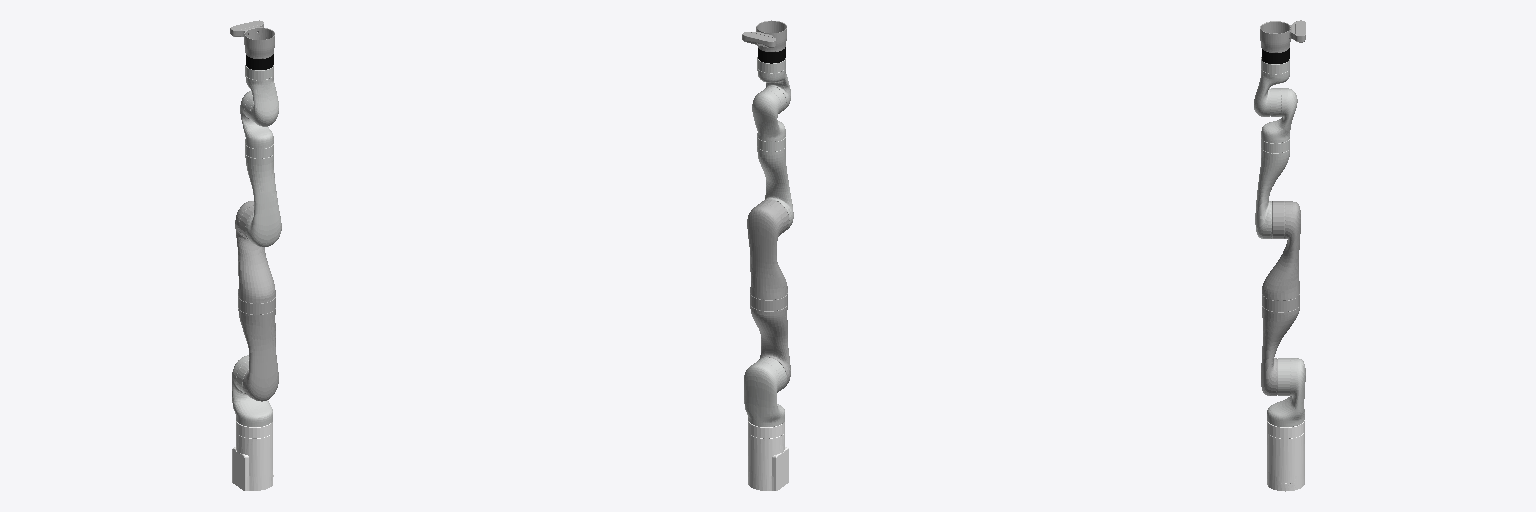
The robot description file, URDF, robot "GEN3-7DOF_BRAKES_VISION_URDF_ARM_V01":
<robot name="GEN3-7DOF_BRAKES_VISION_URDF_ARM_V01">
  <link name="base_link">
    <inertial>
      <origin xyz="-0.00075876 -0.00019207 0.09605351" rpy="0 0 0" />
      <mass value="1.7565703" />
      <inertia ixx="0.00562309" ixy="5.96E-06" ixz="6.235E-05" iyy="0.00551518" iyz="6.09E-06" izz="0.00205231" />
    </inertial>
    <visual name="base_link_visual">
      <origin xyz="0 0 0" rpy="0 0 0" />
      <geometry>
        <mesh filename="package://kortex_description/arms/gen3/7dof/meshes/base_link.obj" />
      </geometry>
      <material name="">
        <color rgba="1 1 1 1" />
      </material>
    </visual>
    <collision name="base_link_collision">
      <geometry>
	    <box size="0.094492 0.094157 0.172850"/> 
      </geometry>
		<origin xyz = "0.00019369274377822876 7.836706936359406e-05 0.08542499692793937" rpy="0 0 0" />
    </collision>
  </link>
  <link name="shoulder_link">
    <inertial>
      <origin xyz="-2.522E-05 -0.00759535 -0.08865077" rpy="0 0 0" />
      <mass value="1.46990145" />
      <inertia ixx="0.00432687" ixy="2.5E-07" ixz="9.4E-07" iyy="0.00447028" iyz="0.0001016" izz="0.00145324" />
    </inertial>
    <visual name="shoulder_link_visual">
      <origin xyz="0 0 0" rpy="0 0 0" />
      <geometry>
        <mesh filename="package://kortex_description/arms/gen3/7dof/meshes/shoulder_link.obj" />
      </geometry>
      <material name="">
        <color rgba="0.84706 0.8549 0.85098 1" />
      </material>
    </visual>
    <collision name="shoulder_link_collision">
      <geometry>
	    <box size="0.094717 0.096708 0.174000"/> 
      </geometry>
		<origin xyz = "0.0 -0.0012972410768270493 -0.08837500622030348" rpy="0 0 0" />
    </collision>
  </link>
  <joint name="joint_1" type="revolute">
    <origin xyz="0 0 0.15643" rpy="3.1416 0 0" />
    <parent link="base_link" />
    <child link="shoulder_link" />
    <axis xyz="0 0 1" />
    <limit lower="-3.1" upper="3.1" effort="9" velocity="1.2218" />
  </joint>
  <link name="half_arm_1_link">
    <inertial>
      <origin xyz="-4.533E-05 -0.12951716 -0.01354356" rpy="0 0 0" />
      <mass value="1.2357745" />
      <inertia ixx="0.0115879" ixy="-1.05E-06" ixz="5E-08" iyy="0.00104574" iyz="-0.00096902" izz="0.0116684" />
    </inertial>
    <visual name="half_arm_1_link_visual">
      <origin xyz="0 0 0" rpy="0 0 0" />
      <geometry>
        <mesh filename="package://kortex_description/arms/gen3/7dof/meshes/half_arm_1_link.obj" />
      </geometry>
      <material name="">
        <color rgba="0.75294 0.75294 0.75294 1" />
      </material>
    </visual>
    <collision name="half_arm_1_link_collision">
      <geometry>
	    <box size="0.094000 0.272800 0.097002"/> 
      </geometry>
		<origin xyz = "0.0 -0.08940000273287296 -0.007876858115196228" rpy="0 0 0" />
    </collision>
  </link>
  <joint name="joint_2" type="revolute">
    <origin xyz="0 0.005375 -0.12838" rpy="1.5708 0 0" />
    <parent link="shoulder_link" />
    <child link="half_arm_1_link" />
    <axis xyz="0 0 1" />
    <limit lower="-2.24" upper="2.24" effort="39" velocity="1.3963" />
  </joint>
  <link name="half_arm_2_link">
    <inertial>
      <origin xyz="-4.533E-05 -0.00361448 -0.14407154" rpy="0 0 0" />
      <mass value="1.2357745" />
      <inertia ixx="0.01009873" ixy="5.7E-07" ixz="1.89E-06" iyy="0.01017801" iyz="0.00013166" izz="0.00104697" />
    </inertial>
    <visual name="half_arm_2_link_visual">
      <origin xyz="0 0 0" rpy="0 0 0" />
      <geometry>
        <mesh filename="package://kortex_description/arms/gen3/7dof/meshes/half_arm_2_link.obj" />
      </geometry>
      <material name="">
        <color rgba="0.75294 0.75294 0.75294 1" />
      </material>
    </visual>
    <collision name="half_arm_2_link_collision">
      <geometry>
	    <box size="0.094000 0.097001 0.256000"/> 
      </geometry>
		<origin xyz = "0.0 -0.0015020743012428284 -0.12937500525731593" rpy="0 0 0" />
    </collision>
  </link>
  <joint name="joint_3" type="revolute">
    <origin xyz="0 -0.21038 -0.006375" rpy="-1.5708 0 0" />
    <parent link="half_arm_1_link" />
    <child link="half_arm_2_link" />
    <axis xyz="0 0 1" />
    <limit lower="-3.1" upper="3.1" effort="39" velocity="1.3963" />
  </joint>
  <link name="forearm_link">
    <inertial>
      <origin xyz="-0.00030188 -0.104938 -0.01559665" rpy="0 0 0" />
      <mass value="0.89954802" />
      <inertia ixx="0.00889854" ixy="1.98E-05" ixz="-2.39E-06" iyy="0.00060297" iyz="-0.00074456" izz="0.00898975" />
    </inertial>
    <visual name="forearm_link_visual">
      <origin xyz="0 0 0" rpy="0 0 0" />
      <geometry>
        <mesh filename="package://kortex_description/arms/gen3/7dof/meshes/forearm_link.obj" />
      </geometry>
      <material name="">
        <color rgba="0.84706 0.8549 0.85098 1" />
      </material>
    </visual>
    <collision name="forearm_link_collision">
      <geometry>
	    <box size="0.094000 0.268900 0.086586"/> 
      </geometry>
		<origin xyz = "0.0 -0.08744999952614307 -0.013647809624671936" rpy="0 0 0" />
    </collision>
  </link>
  <joint name="joint_4" type="revolute">
    <origin xyz="0 0.006375 -0.210375" rpy="1.5708 0 0" />
    <parent link="half_arm_2_link" />
    <child link="forearm_link" />
    <axis xyz="0 0 1" />
    <limit lower="-2.57" upper="2.57" effort="39" velocity="1.3963" />
  </joint>
  <link name="spherical_wrist_1_link">
    <inertial>
      <origin xyz="-0.00035363 -0.00659443 -0.07560343" rpy="0 0 0" />
      <mass value="0.70588351" />
      <inertia ixx="0.00145671" ixy="3.35E-06" ixz="7.62E-06" iyy="0.00145189" iyz="0.00012055" izz="0.00039299" />
    </inertial>
    <visual name="spherical_wrist_1_link_visual">
      <origin xyz="0 0 0" rpy="0 0 0" />
      <geometry>
        <mesh filename="package://kortex_description/arms/gen3/7dof/meshes/spherical_wrist_1_link.obj" />
      </geometry>
      <material name="">
        <color rgba="0.84706 0.8549 0.85098 1" />
      </material>
    </visual>
    <collision name="spherical_wrist_1_link_collision">
      <geometry>
	    <box size="0.071998 0.090046 0.140504"/> 
      </geometry>
		<origin xyz = "8.083879947662354e-07 -0.009023239836096764 -0.07175184157676995" rpy="0 0 0" />
    </collision>
  </link>
  <joint name="joint_5" type="revolute">
    <origin xyz="0 -0.208425 -0.006375" rpy="-1.5708 0 0" />
    <parent link="forearm_link" />
    <child link="spherical_wrist_1_link" />
    <axis xyz="0 0 1" />
    <limit lower="-3.1" upper="3.1" effort="9" velocity="1.2218" />
  </joint>
  <link name="spherical_wrist_2_link">
    <inertial>
      <origin xyz="-0.00035547 -0.06159424 -0.00850171" rpy="0 0 0" />
      <mass value="0.70583924" />
      <inertia ixx="0.00187208" ixy="6.1E-06" ixz="-2.17E-06" iyy="0.00041077" iyz="-0.00033774" izz="0.0018494" />
    </inertial>
    <visual name="spherical_wrist_2_link_visual">
      <origin xyz="0 0 0" rpy="0 0 0" />
      <geometry>
        <mesh filename="package://kortex_description/arms/gen3/7dof/meshes/spherical_wrist_2_link.obj" />
      </geometry>
      <material name="">
        <color rgba="0.84706 0.8549 0.85098 1" />
      </material>
    </visual>
    <collision name="spherical_wrist_2_link_collision">
      <geometry>
	    <box size="0.072000 0.155478 0.090152"/> 
      </geometry>
		<origin xyz = "0.0 -0.041660889983177185 -0.009251080453395844" rpy="0 0 0" />
    </collision>
  </link>
  <joint name="joint_6" type="revolute">
    <origin xyz="0 0.00017505 -0.10592505" rpy="1.5708 0 0" />
    <parent link="spherical_wrist_1_link" />
    <child link="spherical_wrist_2_link" />
    <axis xyz="0 0 1" />
    <limit lower="-2.09" upper="2.09" effort="9" velocity="1.2218" />
  </joint>
  <link name="bracelet_link">
    <inertial>
      <origin xyz="-0.00027419 -0.01170136 -0.03437502" rpy="0 0 0" />
      <mass value="0.43504643" />
      <inertia ixx="0.00048886" ixy="2.59E-06" ixz="1.75E-06" iyy="0.00029425" iyz="8.248E-05" izz="0.000542" />
    </inertial>
    <visual name="bracelet_link_visual">
      <origin xyz="0 0 0" rpy="0 0 0" />
      <geometry>
        <mesh filename="package://kortex_description/arms/gen3/7dof/meshes/bracelet_with_vision_link.obj" />
      </geometry>
      <material name="">
        <color rgba="0.75294 0.75294 0.75294 1" />
      </material>
    </visual>
    <collision name="bracelet_link_collision">
      <geometry>
	    <box size="0.093000 0.114171 0.063925"/> 
      </geometry>
		<origin xyz = "0.0 -0.018585439771413803 -0.0334624988026917" rpy="0 0 0" />
    </collision>
  </link>
  <link name="force_torque_link">
    <inertial>
      <origin xyz="-0.0 -0.0 -0.0" rpy="0 0 0" />
      <mass value="0.05" />
      <inertia ixx="0.00048886" ixy="2.59E-06" ixz="1.75E-06" iyy="0.00029425" iyz="8.248E-05" izz="0.000542" />
    </inertial>
    <visual name="force_torque_link_visual">
      <origin xyz="0 0 -0.027" rpy="0 0 0" />
      <geometry>
        <cylinder radius="0.034" length="0.031"/>
      </geometry>
      <material name="">
        <color rgba="0.1 0.1 0.1 1" />
      </material>
    </visual>
    <collision name="force_torque_link_collision">
      <geometry>
	    <box size="0.093000 0.08 0.031"/> 
      </geometry>
		<origin xyz = "0.0 0.0 -.03" rpy="0 0 0" />
    </collision>
  </link>
  <joint name="joint_7" type="revolute">
    <origin xyz="0 -0.10592505 -0.00017505" rpy="-1.5708 0 0" />
    <parent link="spherical_wrist_2_link" />
    <child link="force_torque_link" />
    <axis xyz="0 0 1" />
    <limit lower="-3.1" upper="3.1" effort="9" velocity="1.2218" />
  </joint>
  <joint name="joint_8" type="fixed">
    <origin xyz="0 0 -0.031" rpy="0 0 0" />
    <parent link="force_torque_link" />
    <child link="bracelet_link" />
  </joint>
  <link name="end_effector_link">
    <inertial>
      <origin xyz="0 0 0" rpy="0 0 0" />
      <mass value="0" />
      <inertia ixx="0" ixy="0" ixz="0" iyy="0" iyz="0" izz="0" />
    </inertial>
  </link>
  <joint name="end_effector" type="fixed">
    <origin xyz="0 0 -0.061525" rpy="3.1416 0 0" />
    <parent link="bracelet_link" />
    <child link="end_effector_link" />
    <axis xyz="0 0 0" />
  </joint>
</robot>

--- Facts derived from the render (not from the file) ---
Views: 3 orthographic renders of the robot side by side, from view 1: azimuth 30°, elevation 25°; view 2: azimuth 150°, elevation 25°; view 3: azimuth 270°, elevation 25°.
Robot: GEN3-7DOF_BRAKES_VISION_URDF_ARM_V01 — 10 links, 9 joints (7 revolute, 2 fixed); root link base_link; default pose: every joint at zero.
Links seen in each view (by area): view 1: half_arm_1_link, forearm_link, base_link, half_arm_2_link, shoulder_link, spherical_wrist_2_link, bracelet_link, spherical_wrist_1_link; view 2: half_arm_2_link, base_link, shoulder_link, half_arm_1_link, forearm_link, spherical_wrist_1_link, bracelet_link, spherical_wrist_2_link; view 3: half_arm_2_link, base_link, half_arm_1_link, shoulder_link, forearm_link, spherical_wrist_1_link, bracelet_link, spherical_wrist_2_link.
Boxes of the visible links, left/top/right/bottom form: half_arm_1_link: left=238, top=296, right=278, bottom=401; forearm_link: left=245, top=143, right=281, bottom=246; base_link: left=232, top=421, right=273, bottom=490; half_arm_2_link: left=235, top=201, right=275, bottom=303; shoulder_link: left=232, top=355, right=272, bottom=426; spherical_wrist_2_link: left=245, top=65, right=278, bottom=126; bracelet_link: left=230, top=20, right=274, bottom=58; spherical_wrist_1_link: left=240, top=91, right=273, bottom=148; half_arm_2_link: left=747, top=199, right=788, bottom=299; base_link: left=748, top=421, right=788, bottom=490; shoulder_link: left=744, top=357, right=786, bottom=426; half_arm_1_link: left=750, top=293, right=790, bottom=388; forearm_link: left=757, top=136, right=793, bottom=229; spherical_wrist_1_link: left=752, top=87, right=785, bottom=141; bracelet_link: left=742, top=20, right=786, bottom=51; spherical_wrist_2_link: left=757, top=57, right=790, bottom=109; half_arm_2_link: left=1262, top=201, right=1300, bottom=300; base_link: left=1267, top=420, right=1304, bottom=491; half_arm_1_link: left=1261, top=294, right=1299, bottom=395; shoulder_link: left=1267, top=358, right=1305, bottom=426; forearm_link: left=1255, top=138, right=1289, bottom=238; spherical_wrist_1_link: left=1261, top=88, right=1297, bottom=143; bracelet_link: left=1260, top=20, right=1305, bottom=52; spherical_wrist_2_link: left=1254, top=57, right=1289, bottom=116.
Size in the robot's own frame: 0.0928 by 0.1278 by 1.22 metres.
8 mesh visuals loaded from 8 distinct referenced files (8 OBJ).